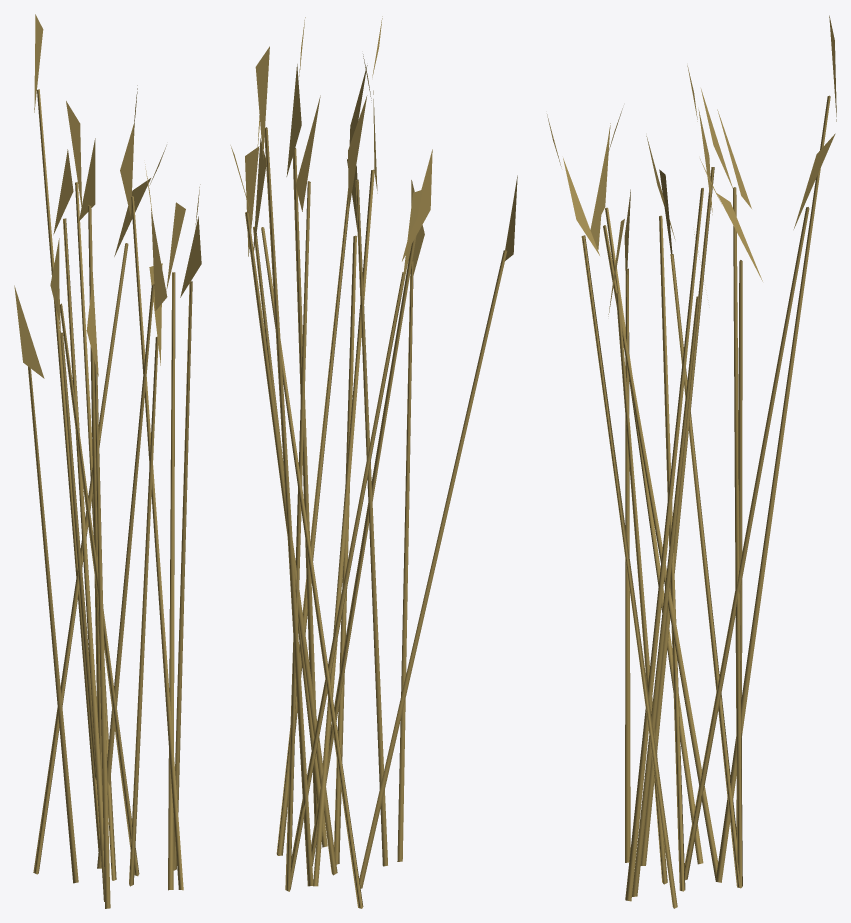
Rendered from trigo_4.glb.
The picture shows the model from 3 angles, left to right: view 1: azimuth 30°, elevation 25°; view 2: azimuth 150°, elevation 25°; view 3: azimuth 270°, elevation 25°; orthographic projection. The views are drawn at different scales.
Parts seen in each view (by area): view 1: trigo_4.001; view 2: trigo_4.001; view 3: trigo_4.001.
Part boxes in pixels (box(x1,y1,x2,y2)): trigo_4.001: box(14, 14, 201, 908); trigo_4.001: box(230, 16, 517, 908); trigo_4.001: box(547, 15, 836, 908).
Size of the model in its own units: 0.34 by 1.25 by 0.3842.
